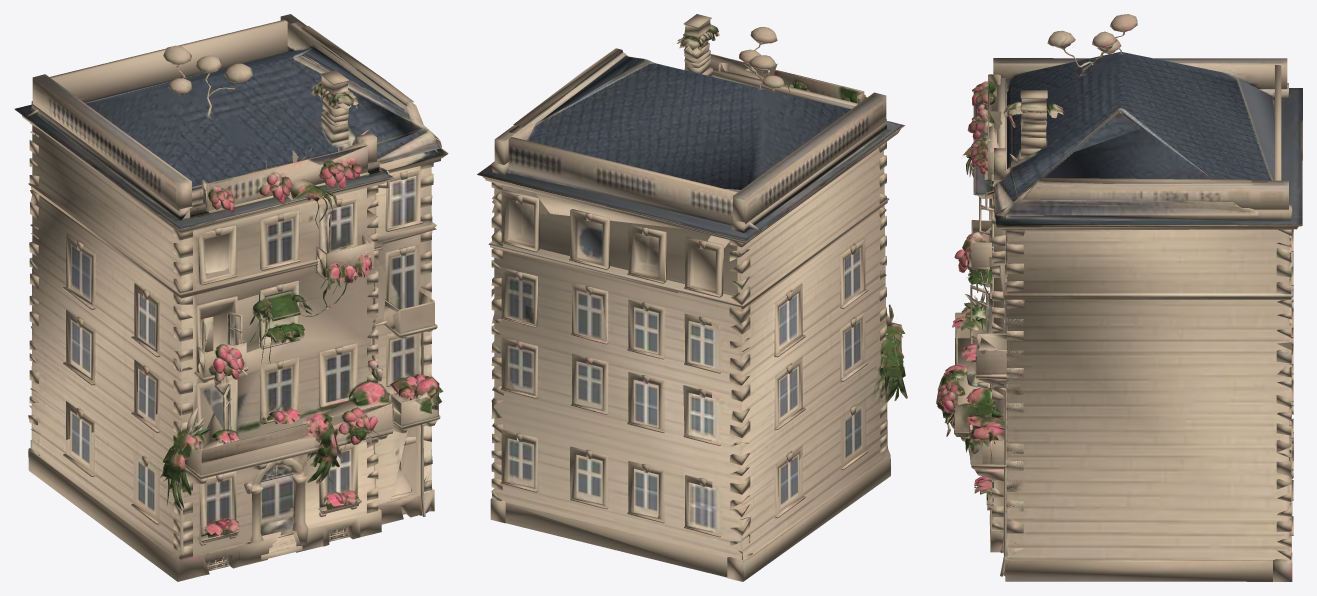
The picture shows the model from 3 angles, left to right: view 1: azimuth 30°, elevation 25°; view 2: azimuth 150°, elevation 25°; view 3: azimuth 270°, elevation 25°; orthographic projection. The views are drawn at different scales.
Size of the model in its own units: 0.6118 by 0.9521 by 0.6743.
1 material, 1 textured.
